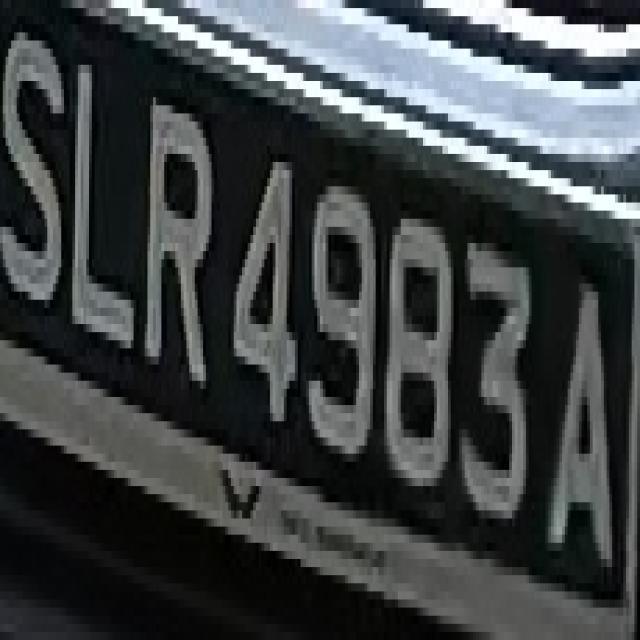3: (453, 218, 540, 534)
4: (231, 121, 306, 454)
8: (382, 178, 456, 502)
9: (304, 154, 378, 470)
A: (543, 235, 623, 591)
L: (66, 40, 134, 372)
R: (139, 89, 214, 421)
S: (0, 0, 67, 340)
